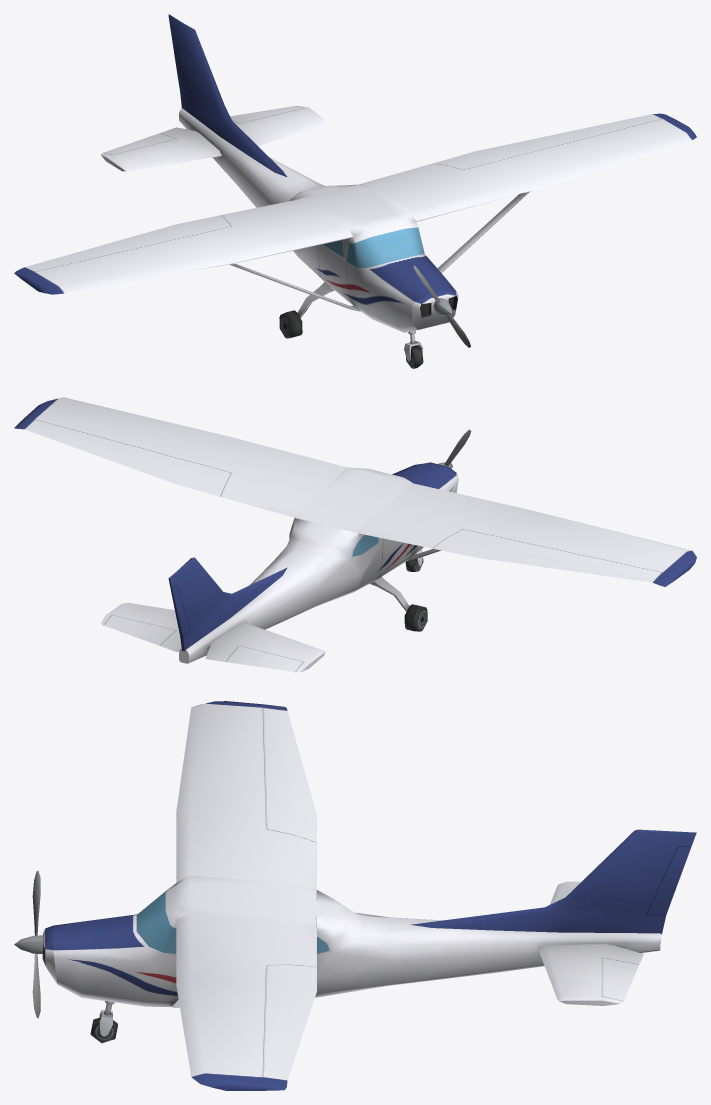
File: low_poly_airplane.glb
3 views of the same model, one above another, from view 1: azimuth 30°, elevation 25°; view 2: azimuth 150°, elevation 25°; view 3: azimuth 270°, elevation 25° (orthographic). The views are drawn at different scales.
Parts seen in each view (by area): view 1: awionetka_airplane_0; view 2: awionetka_airplane_0; view 3: awionetka_airplane_0.
Part boxes in pixels (<box>): awionetka_airplane_0: <box>14,14,696,368</box>; awionetka_airplane_0: <box>14,397,696,672</box>; awionetka_airplane_0: <box>14,701,696,1090</box>.
Size of the model in its own units: 130 by 33.63 by 97.93.
1 material, 1 textured.
